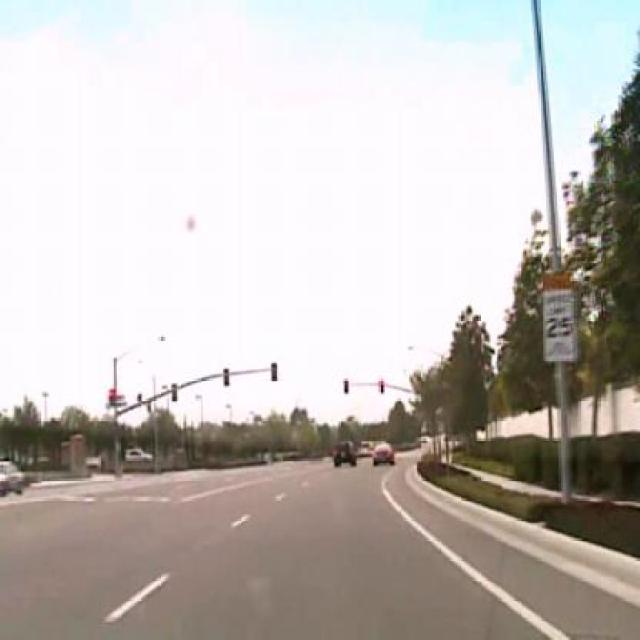schoolSpeedLimit25: (544, 270, 578, 362)
